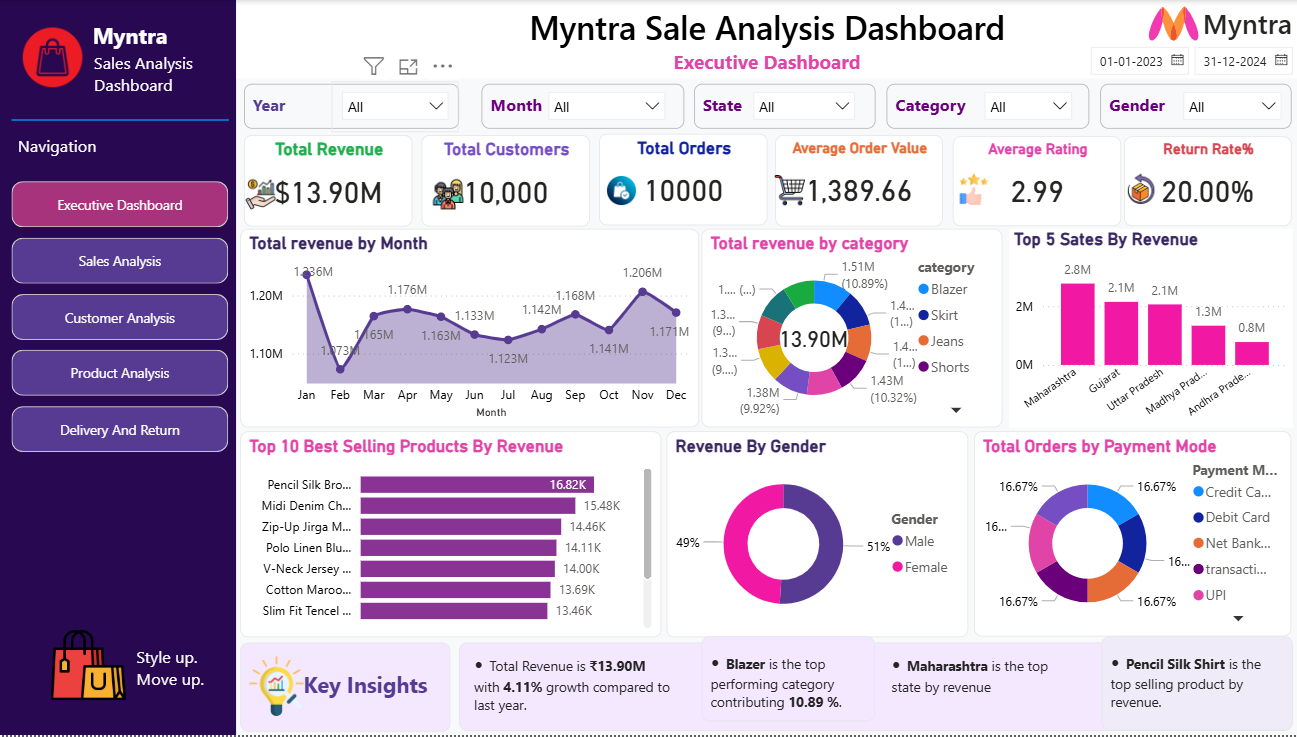

This screenshot's page, from the dashboard's own definition file:
{"tool":"powerbi","page":{"name":"Executive Dashboard","canvas":[1280,720],"ordinal":0},"visuals":[{"type":"shape","box":[9.6,0,231.9,720.4],"z":0},{"type":"textbox","box":[242.1,0,1038.2,77],"z":1000},{"type":"textbox","box":[61.1,14.7,128.4,41.6],"z":2000},{"type":"textbox","box":[97.8,45.2,118.6,55],"z":3000},{"type":"textbox","box":[23.3,126.2,102.9,49.4],"z":4000},{"type":"textbox","box":[1182.9,0,97.4,45.3],"z":5000},{"type":"image","box":[1114.2,2.7,90.6,42.5],"z":6000},{"type":"slicer","fields":{"Values":["order_clean.order_date"]},"box":[1065.1,35.5,215.2,41.6],"z":7000},{"type":"card","title":"Total Revenue","fields":{"Values":["order_clean.Total revenue"]},"box":[249.5,132.1,165.1,89.3],"z":8000},{"type":"card","title":"Average Order Value","fields":{"Values":["order_clean.AOV"]},"box":[769.2,132.1,163.9,89.3],"z":9000},{"type":"card","title":"Total Orders","fields":{"Values":["order_clean.Total Orders"]},"box":[596.7,130.8,165.1,89.3],"z":10000},{"type":"card","title":"Average Rating","fields":{"Values":["order_clean.Average rating"]},"box":[942.8,133.3,165.1,88],"z":11000},{"type":"lineChart","fields":{"Y":["order_clean.Total revenue"],"Category":["Date_table.Month"]},"box":[245.8,223.8,448.8,194.4],"z":12000},{"type":"donutChart","fields":{"Y":["order_clean.Total revenue"],"Category":["products_clean.category"]},"box":[697,223.8,294.7,194.4],"z":13000},{"type":"columnChart","title":"Top 5 Sates By Revenue","fields":{"Category":["customer_clean.state"],"Y":["order_clean.Total revenue"]},"box":[997.8,223.8,277.6,194.4],"z":14000},{"type":"card","fields":{"Values":["order_clean.Total revenue"]},"box":[755.7,308.2,101.5,46.5],"z":15000},{"type":"clusteredBarChart","title":"Top 10 Best Selling Products By Revenue","fields":{"Category":["products_clean.product_name"],"Y":["order_clean.Total revenue"]},"box":[245.6,421.3,411.7,201.7],"z":16000},{"type":"donutChart","title":"Revenue By Gender","fields":{"Category":["customer_clean.gender"],"Y":["order_clean.Total revenue"]},"box":[662.8,421.3,295,201.7],"z":17000},{"type":"donutChart","fields":{"Y":["order_clean.Total Orders"],"Category":["transactions_clean.Column3"]},"box":[963.6,421.9,310.6,200.5],"z":18000},{"type":"textbox","box":[245.8,628.5,205.4,86.8],"z":19000},{"type":"textbox","box":[459.7,628.5,815.1,86.4],"z":20000},{"type":"image","box":[236,642,90.5,58.7],"z":21000},{"type":"textbox","box":[469.6,628.5,201.8,77],"z":22000},{"type":"textbox","box":[697,622.4,170,83.2],"z":23000},{"type":"textbox","box":[878,628.5,173.6,77],"z":24000},{"type":"textbox","box":[1088.3,622.4,187.1,91.7],"z":25000},{"type":"image","box":[245.8,174.9,40.4,30.6],"z":26000},{"type":"image","box":[598,171.2,41.6,30.6],"z":27000},{"type":"image","box":[763,171.2,40.4,29.3],"z":28000},{"type":"image","box":[942.8,170,41.6,30.6],"z":29000},{"type":"shape","box":[22,102.7,212.8,29.3],"z":30000},{"type":"textbox","box":[689.7,81.9,177.3,44],"z":31000},{"type":"textbox","box":[481.8,81.9,198.1,44],"z":32000},{"type":"textbox","box":[878,81.9,198.1,44],"z":33000},{"type":"textbox","box":[1087.1,81.9,187.1,44],"z":34000},{"type":"slicer","fields":{"Values":["customer_clean.Gender"]},"box":[1158,79.5,116.2,42.8],"z":35000},{"type":"pageNavigator","box":[22,177.3,212.8,267.8],"z":36000},{"type":"slicer","fields":{"Values":["products_clean.category"]},"box":[963.6,79.5,106.4,40.4],"z":37000},{"type":"slicer","fields":{"Values":["customer_clean.state"]},"box":[737.4,79.5,119.8,50.1],"z":38000},{"type":"slicer","fields":{"Values":["Date_table.Month"]},"box":[536.8,79.5,134.5,50.1],"z":39000},{"type":"textbox","box":[249.5,81.9,210.3,44],"z":40000},{"type":"slicer","fields":{"Values":["Date_table.Year"]},"box":[335.1,79.5,124.7,50.1],"z":41000},{"type":"textbox","box":[139.4,626.1,88,94.2],"z":42000},{"type":"image","box":[9.8,26.9,105.2,58.7],"z":43000},{"type":"image","box":[24.5,611.4,145.5,78.3],"z":44000},{"type":"card","title":"Total Customers","fields":{"Values":["order_clean.Total customers"]},"box":[423.1,132.1,165.1,89.3],"z":45000},{"type":"card","title":"Return Rate%","fields":{"Values":["order_clean.Return_Rate"]},"box":[1110.3,133.3,163.9,88],"z":46000},{"type":"image","box":[429.2,174.9,40.4,30.6],"z":47000},{"type":"image","box":[1106.7,170,40.4,29.3],"z":48000}]}

Visuals, with their boxes in screenshot pixels (x1, y1, x2, y2), scaled from the page's 1280x720 canvas onto the 1297x737 screenshot:
shape: box=[10, 0, 245, 736]
textbox: box=[245, 0, 1296, 79]
textbox: box=[62, 15, 192, 58]
textbox: box=[99, 46, 219, 103]
textbox: box=[24, 129, 128, 180]
textbox: box=[1199, 0, 1296, 46]
image: box=[1129, 3, 1221, 46]
slicer - order_clean.order_date: box=[1079, 36, 1296, 79]
"Total Revenue" card: box=[253, 135, 420, 227]
"Average Order Value" card: box=[779, 135, 945, 227]
"Total Orders" card: box=[605, 134, 772, 225]
"Average Rating" card: box=[955, 136, 1123, 227]
lineChart - order_clean.Total revenue x Date_table.Month: box=[249, 229, 704, 428]
donutChart - order_clean.Total revenue x products_clean.category: box=[706, 229, 1005, 428]
"Top 5 Sates By Revenue" columnChart: box=[1011, 229, 1292, 428]
card - order_clean.Total revenue: box=[766, 315, 869, 363]
"Top 10 Best Selling Products By Revenue" clusteredBarChart: box=[249, 431, 666, 638]
"Revenue By Gender" donutChart: box=[672, 431, 971, 638]
donutChart - order_clean.Total Orders x transactions_clean.Column3: box=[976, 432, 1291, 637]
textbox: box=[249, 643, 457, 732]
textbox: box=[466, 643, 1292, 732]
image: box=[239, 657, 331, 717]
textbox: box=[476, 643, 680, 722]
textbox: box=[706, 637, 879, 722]
textbox: box=[890, 643, 1066, 722]
textbox: box=[1103, 637, 1292, 731]
image: box=[249, 179, 290, 210]
image: box=[606, 175, 648, 207]
image: box=[773, 175, 814, 205]
image: box=[955, 174, 997, 205]
shape: box=[22, 105, 238, 135]
textbox: box=[699, 84, 879, 129]
textbox: box=[488, 84, 689, 129]
textbox: box=[890, 84, 1090, 129]
textbox: box=[1102, 84, 1291, 129]
slicer - customer_clean.Gender: box=[1173, 81, 1291, 125]
pageNavigator: box=[22, 181, 238, 456]
slicer - products_clean.category: box=[976, 81, 1084, 123]
slicer - customer_clean.state: box=[747, 81, 869, 133]
slicer - Date_table.Month: box=[544, 81, 680, 133]
textbox: box=[253, 84, 466, 129]
slicer - Date_table.Year: box=[340, 81, 466, 133]
textbox: box=[141, 641, 230, 736]
image: box=[10, 28, 117, 88]
image: box=[25, 626, 172, 706]
"Total Customers" card: box=[429, 135, 596, 227]
"Return Rate%" card: box=[1125, 136, 1291, 227]
image: box=[435, 179, 476, 210]
image: box=[1121, 174, 1162, 204]
